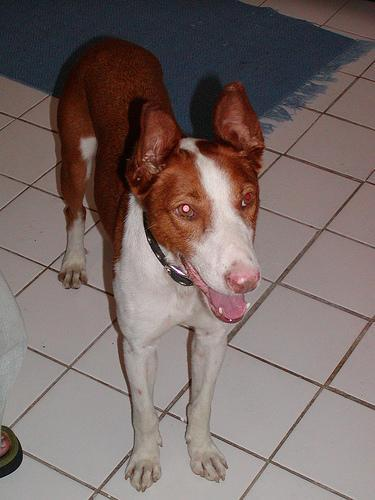Ibizan_hound: (55, 36, 262, 495)
